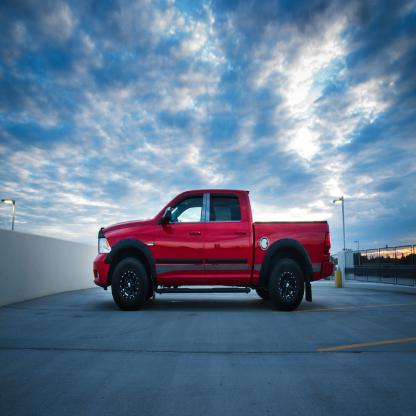Truck: (85, 182, 334, 314)
